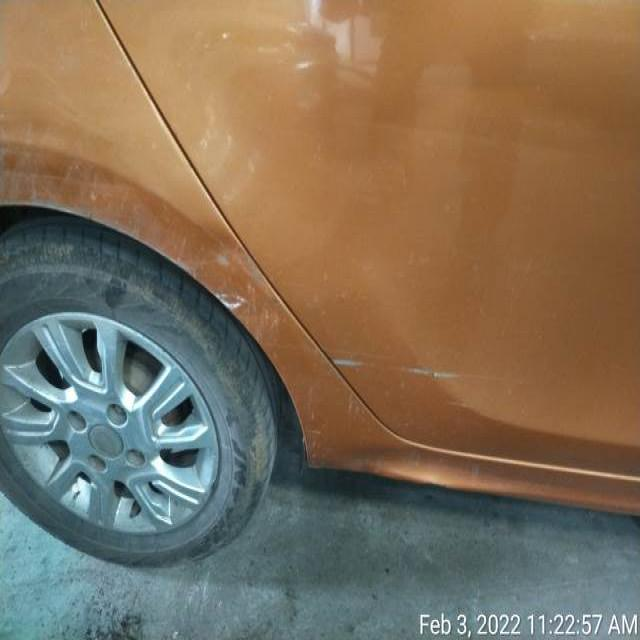damage: (326, 340, 481, 406), (208, 268, 251, 318)
